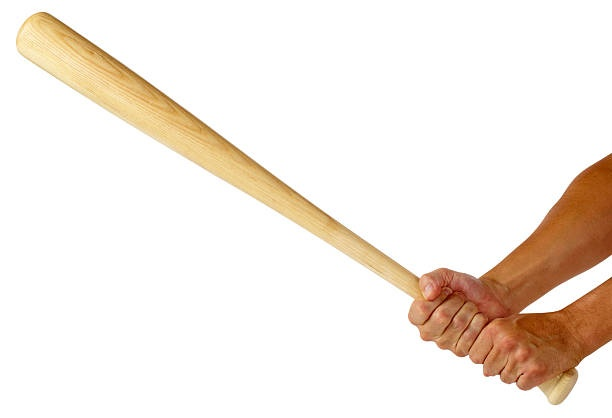bita: (17, 19, 567, 387)
